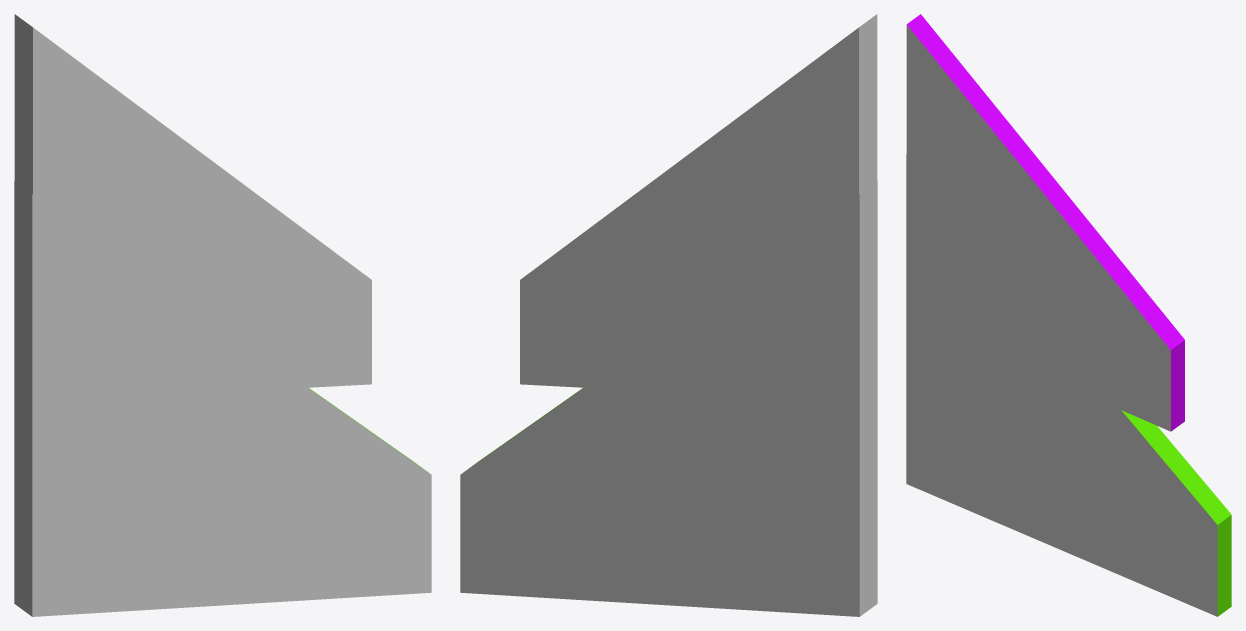
The model's file is altk_lv3.fbx.
The picture shows the model from 3 angles, left to right: view 1: azimuth 30°, elevation 25°; view 2: azimuth 150°, elevation 25°; view 3: azimuth 330°, elevation 25°; orthographic projection. The views are drawn at different scales.
Visible parts, largest first — view 1: altk_lv3; view 2: altk_lv3; view 3: altk_lv3.
Part boxes in pixels (bbox=[...]): altk_lv3: bbox=[14, 14, 431, 616]; altk_lv3: bbox=[460, 14, 877, 616]; altk_lv3: bbox=[906, 14, 1231, 616].
Bounding box in the file's own units: 91.83 × 146 × 7.23.
